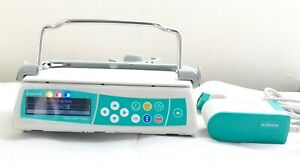BBraun Infusomat Space: (13, 73, 204, 140)
